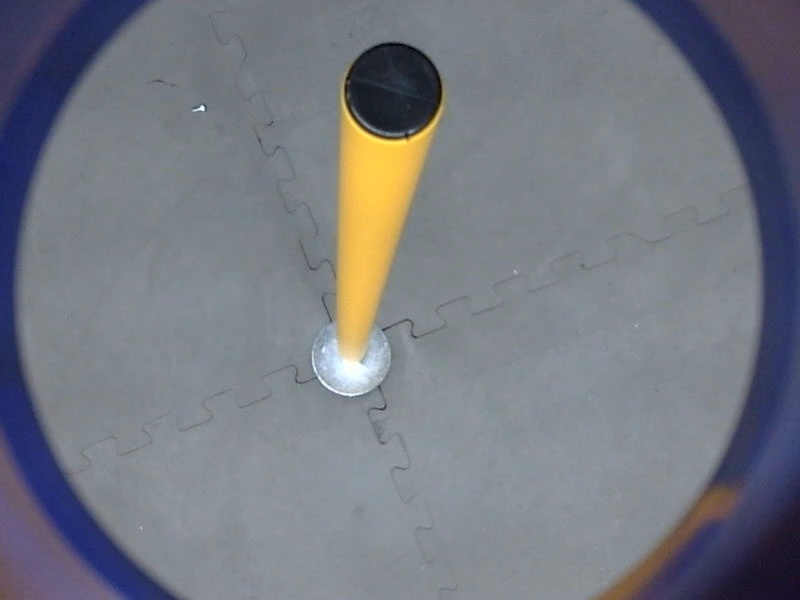tip: (335, 35, 449, 150)
